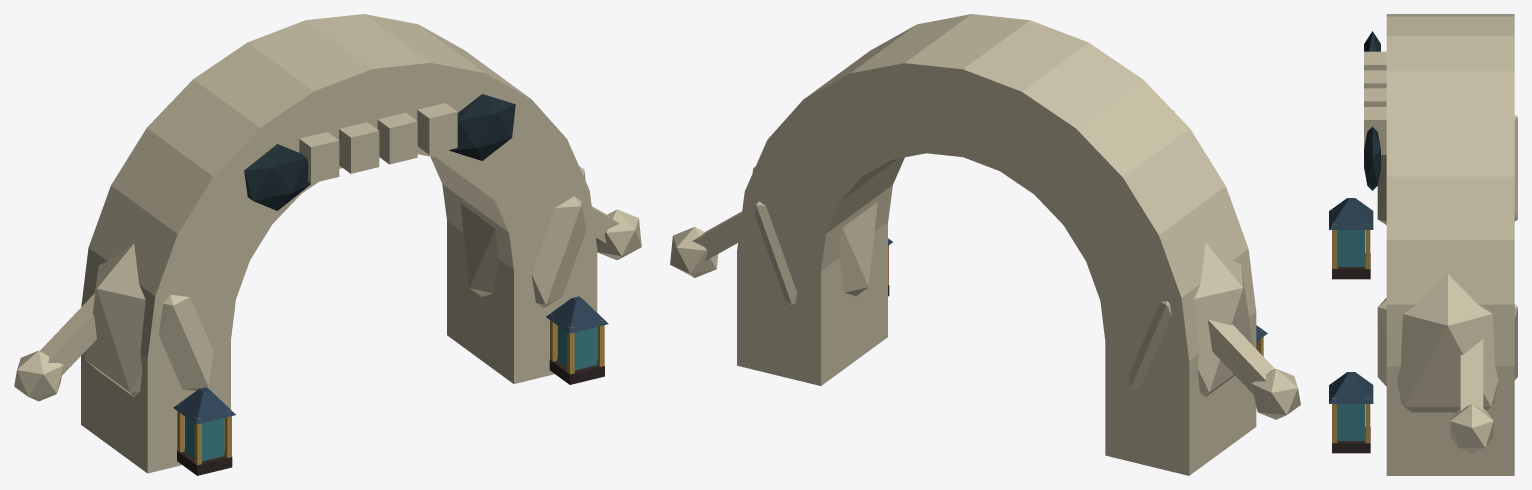
Rendered from PirateCove_SkullArch_Showcase.glb.
3 renders of one model, left to right at view 1: azimuth 30°, elevation 25°; view 2: azimuth 150°, elevation 25°; view 3: azimuth 270°, elevation 25°, orthographic. The views are drawn at different scales.
Parts seen in each view (by area): view 1: PirateCove_SkullArch_Showcase; view 2: PirateCove_SkullArch_Showcase; view 3: PirateCove_SkullArch_Showcase.
Boxes of the visible parts, box(x1,y1,x2,y2) form: PirateCove_SkullArch_Showcase: box(14, 14, 641, 475); PirateCove_SkullArch_Showcase: box(670, 14, 1300, 475); PirateCove_SkullArch_Showcase: box(1329, 14, 1517, 475).
Size of the model in its own units: 4.84 by 2.6 by 1.33.
